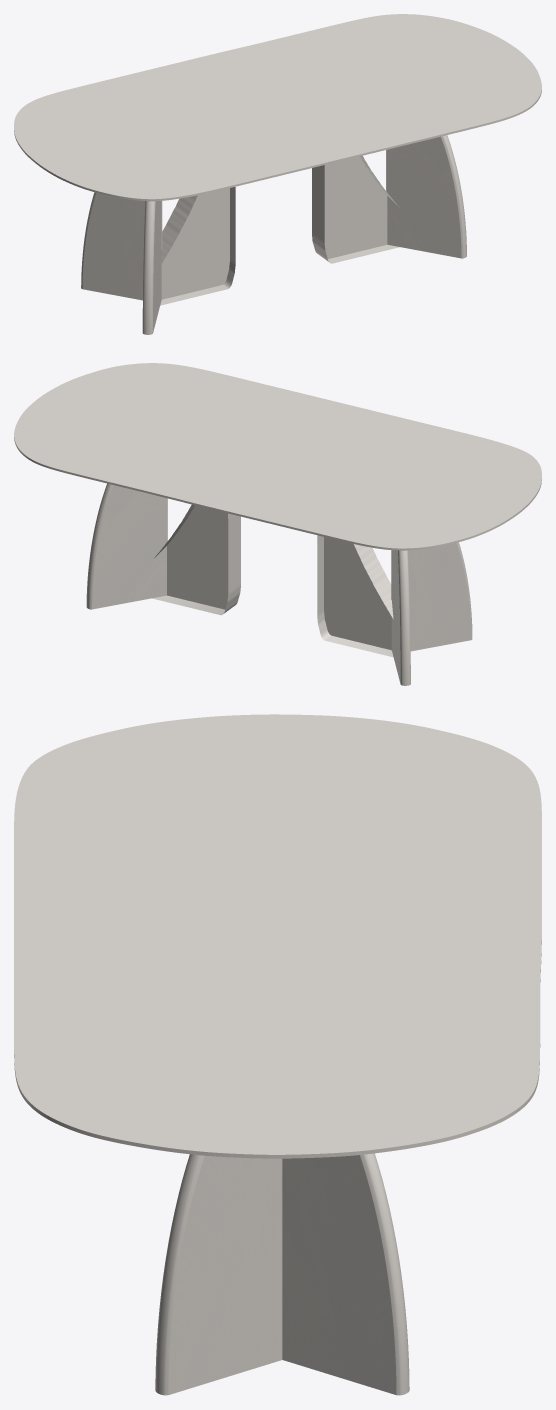
The model's file is pearlwhite_oval_facet_plane.glb.
The picture shows the model from 3 angles, top to bottom: view 1: azimuth 30°, elevation 25°; view 2: azimuth 150°, elevation 25°; view 3: azimuth 270°, elevation 25°; orthographic projection. The views are drawn at different scales.
Parts seen in each view (by area): view 1: facet_oval, plane_singleright2, plane_single1, plane_single2, plane_singleleft1, plane_singleright1; view 2: facet_oval, plane_singleleft2, plane_single1, plane_single2, plane_singleright1, plane_singleleft1; view 3: facet_oval, plane_singleleft2, plane_singleright2.
Boxes of the visible parts, <box> form: facet_oval: <box>14,14,541,201</box>; plane_singleright2: <box>386,135,466,258</box>; plane_single1: <box>160,187,235,305</box>; plane_single2: <box>312,156,399,263</box>; plane_singleleft1: <box>81,192,162,300</box>; plane_singleright1: <box>142,201,161,334</box>; facet_oval: <box>14,363,541,550</box>; plane_singleleft2: <box>86,483,167,609</box>; plane_single1: <box>317,535,393,657</box>; plane_single2: <box>152,504,240,615</box>; plane_singleright1: <box>391,542,472,651</box>; plane_singleleft1: <box>391,550,410,685</box>; facet_oval: <box>14,714,541,1158</box>; plane_singleleft2: <box>282,1153,409,1395</box>; plane_singleright2: <box>155,1154,282,1395</box>.
Size of the model in its own units: 7.5 by 2.49 by 3.8.
Materials: 1 (1 with a texture image).
